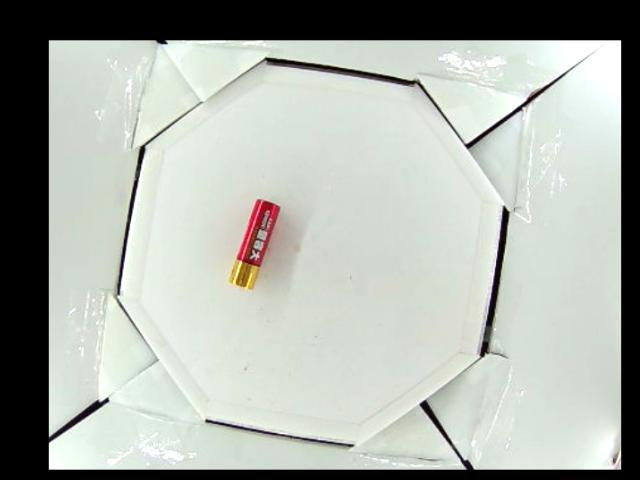Battery: (229, 197, 280, 289)
